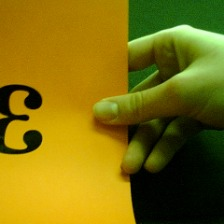orange3: (1, 79, 50, 163)
